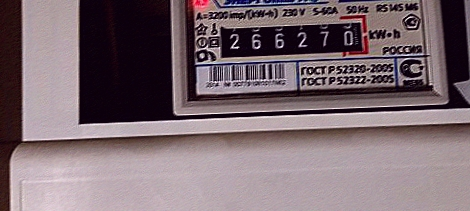0: (341, 29, 354, 47)
2: (226, 32, 240, 51), (295, 30, 307, 49)
6: (249, 32, 262, 51), (272, 32, 285, 51)
7: (318, 29, 330, 48)
screen: (208, 12, 373, 67)
